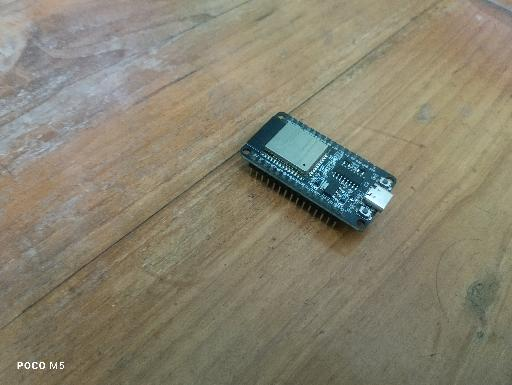Esp32: (239, 111, 397, 231)
